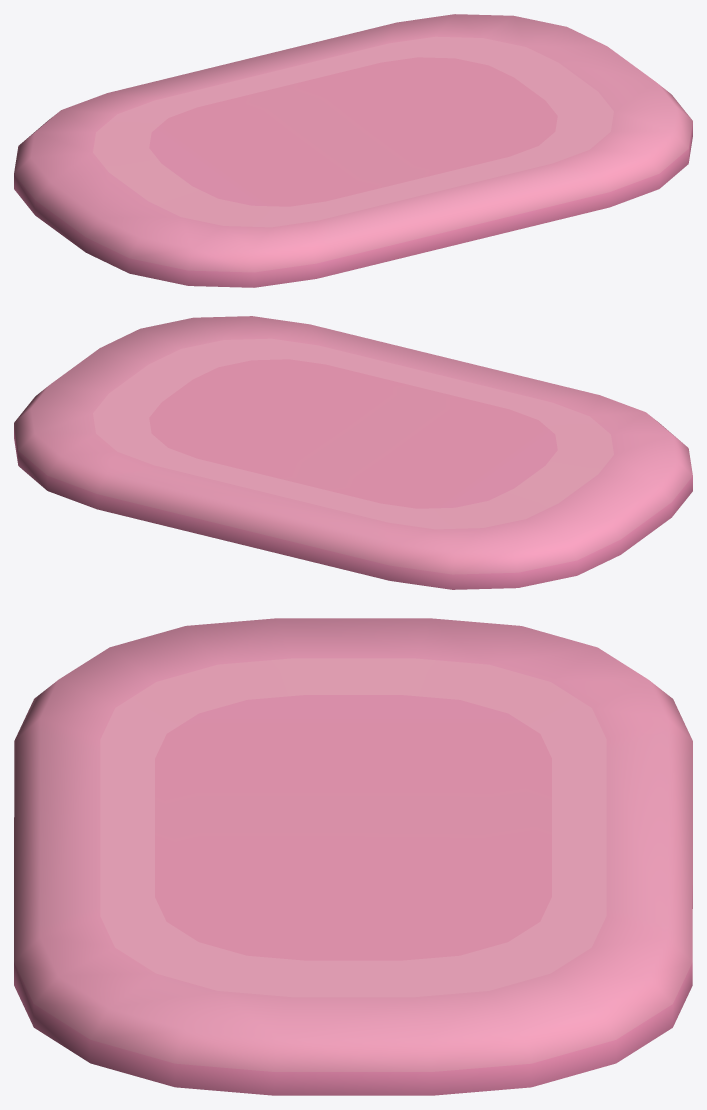
3 views of the same model, one above another, from view 1: azimuth 30°, elevation 25°; view 2: azimuth 150°, elevation 25°; view 3: azimuth 270°, elevation 25° (orthographic). The views are drawn at different scales.
Parts seen in each view (by area): view 1: mat; view 2: mat; view 3: mat.
Boxes of the visible parts, left/top/right/bottom form: mat: left=14, top=14, right=692, bottom=287; mat: left=14, top=316, right=692, bottom=589; mat: left=14, top=618, right=692, bottom=1095.
Bounding box in the file's own units: 2 × 0.1 × 1.3.
1 material, 1 textured.
